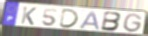5: (40, 8, 59, 27)
A: (78, 10, 101, 30)
B: (100, 11, 124, 32)
D: (58, 8, 80, 29)
G: (123, 13, 144, 34)
K: (20, 6, 38, 27)
